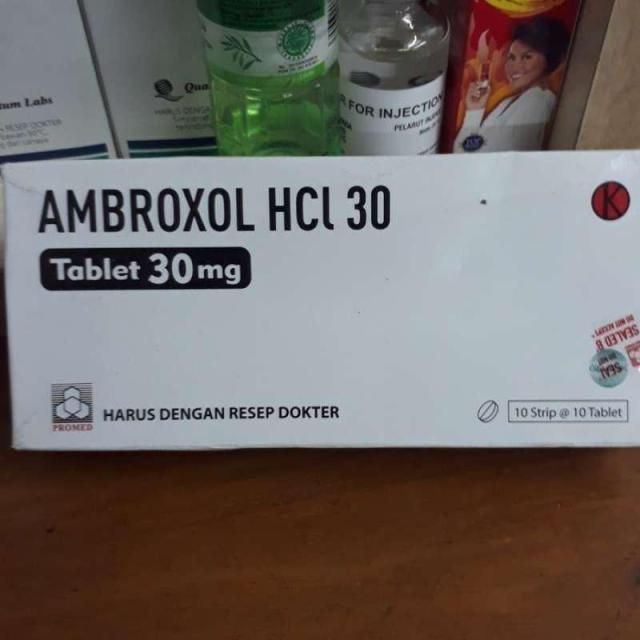drug-name: (30, 184, 264, 240)
